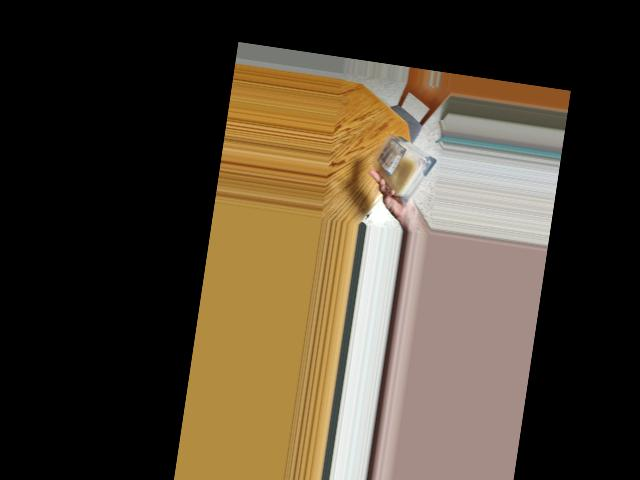cheese: (369, 128, 432, 203)
